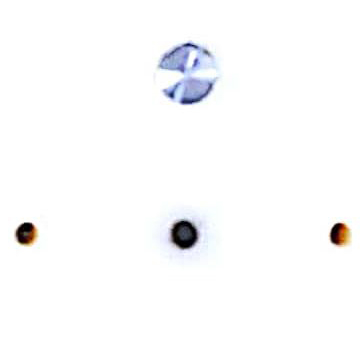abnormal: (138, 31, 235, 115)
cancer: (149, 197, 218, 268)
normal: (317, 210, 361, 255), (3, 215, 49, 257)
